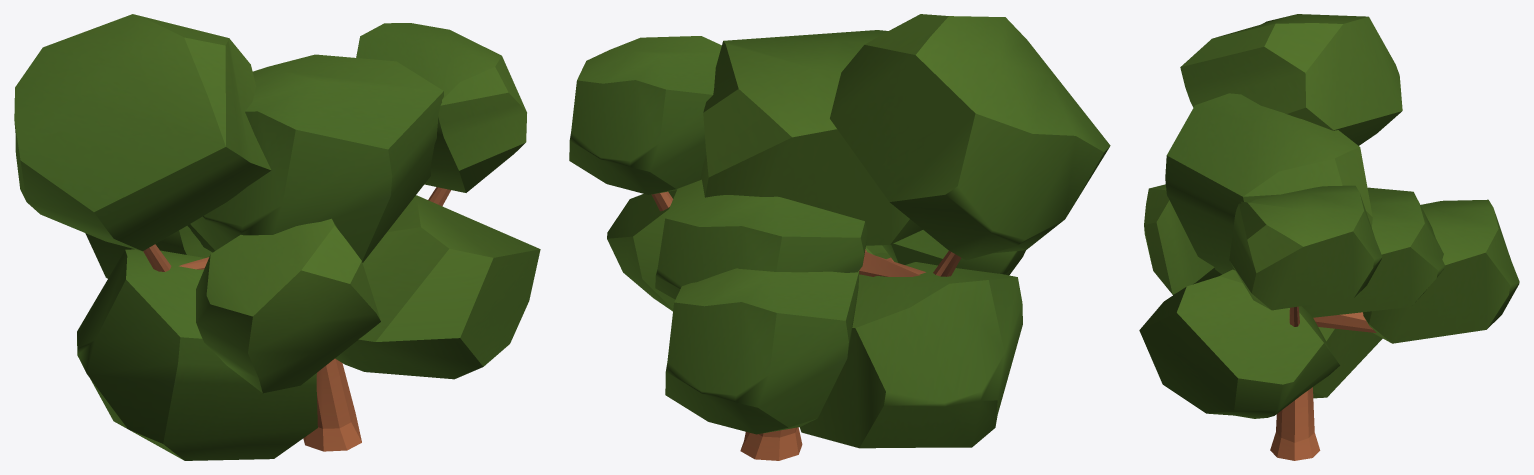
File: arbusto11.fbx
The picture shows the model from 3 angles, left to right: view 1: azimuth 30°, elevation 25°; view 2: azimuth 150°, elevation 25°; view 3: azimuth 270°, elevation 25°; orthographic projection. The views are drawn at different scales.
Parts seen in each view (by area): view 1: arbusto13; view 2: arbusto13; view 3: arbusto13.
Part boxes in pixels (left/top/right/bottom): arbusto13: left=14, top=14, right=540, bottom=460; arbusto13: left=569, top=14, right=1110, bottom=460; arbusto13: left=1139, top=14, right=1519, bottom=460.
Bounding box in the file's own units: 355 × 310 × 294.
